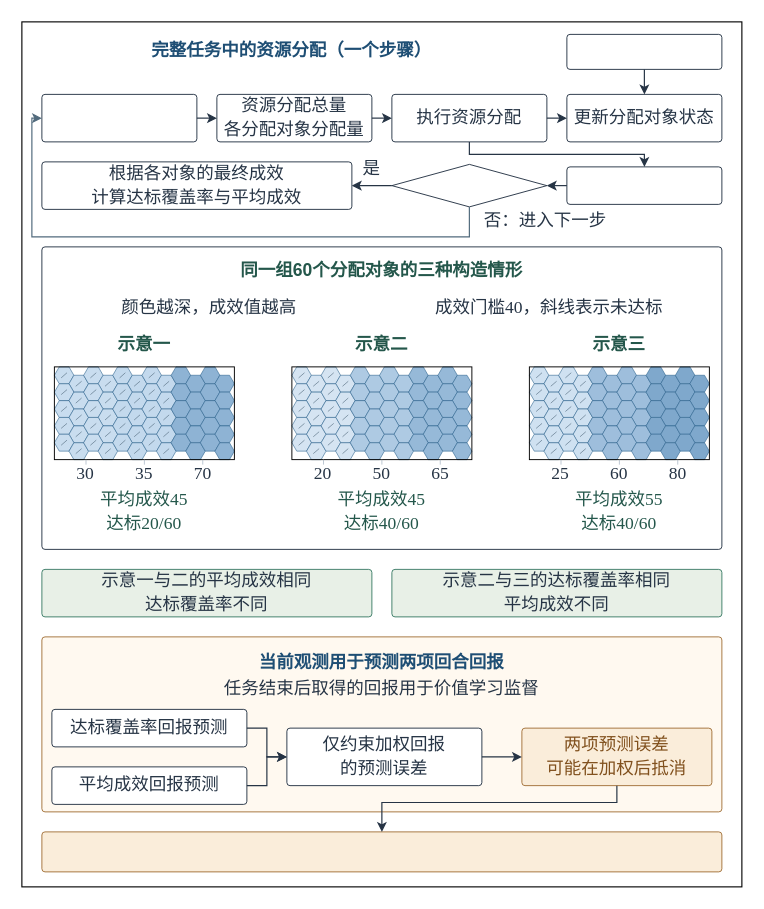
This 764x909 diagram has some shape labels left out. The centre of each missing label's shape, as x and y in pixels:
"任务结束？" goes at pixel 469 185.
"如何兼顾两项回报的预测准确性，以支持同一资源分配策略学习？" goes at pixel 381 851.
"当前观测信息 剩余资源总量" goes at pixel 119 117.
"更新剩余资源总量" goes at pixel 644 185.
"环境变化" goes at pixel 644 51.
